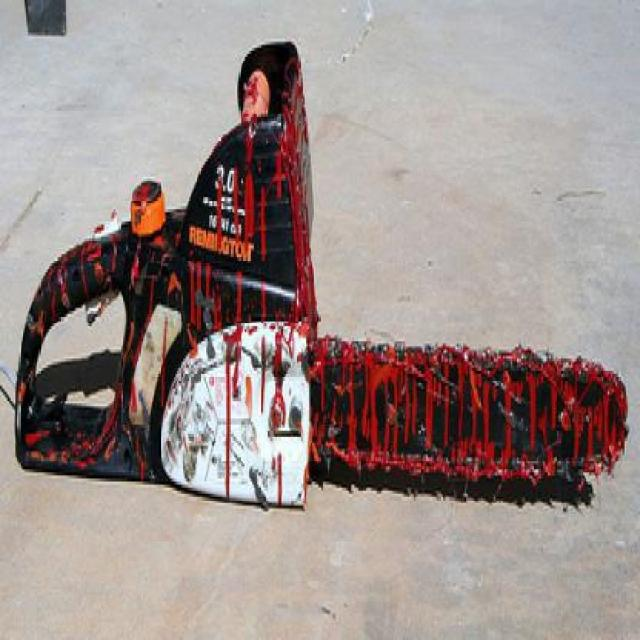Chainsaw: (12, 36, 631, 518)
